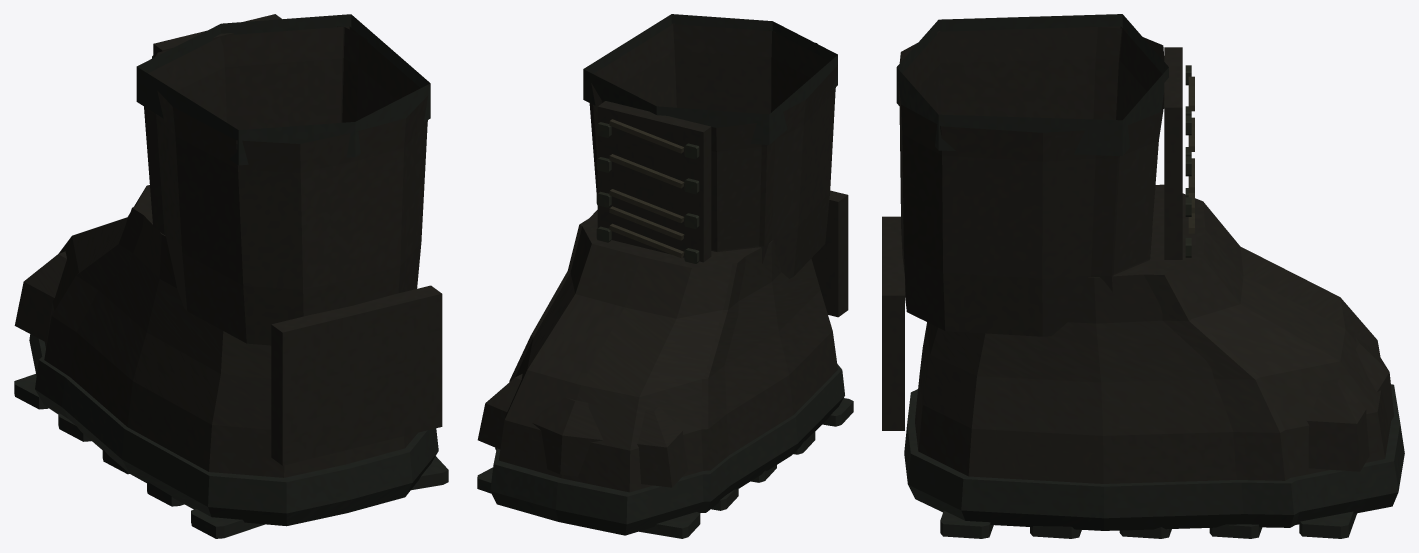
The model's file is boots_leather.glb.
3 renders of one model, left to right at view 1: azimuth 30°, elevation 25°; view 2: azimuth 150°, elevation 25°; view 3: azimuth 270°, elevation 25°, orthographic. The views are drawn at different scales.
Parts seen in each view (by area): view 1: boots_leather_footL_LOD0_RAID_leather, boots_leather_footL_LOD1_RAID_leather, boots_leather_footL_LOD0_RAID_rubber, boots_leather_footL_LOD1_RAID_rubber; view 2: boots_leather_footL_LOD0_RAID_leather, boots_leather_footL_LOD1_RAID_leather, boots_leather_footL_LOD0_RAID_rubber, boots_leather_footL_LOD0_RAID_lace, boots_leather_footL_LOD0_RAID_zip, boots_leather_footL_LOD1_RAID_rubber, boots_leather_footL_LOD1_RAID_lace; view 3: boots_leather_footL_LOD0_RAID_leather, boots_leather_footL_LOD1_RAID_leather, boots_leather_footL_LOD0_RAID_rubber, boots_leather_footL_LOD1_RAID_rubber, boots_leather_footL_LOD0_RAID_zip, boots_leather_footL_LOD0_RAID_lace.
Boxes of the visible parts, bbox=[...] form: boots_leather_footL_LOD0_RAID_leather: bbox=[14, 17, 442, 477]; boots_leather_footL_LOD1_RAID_leather: bbox=[44, 14, 442, 465]; boots_leather_footL_LOD0_RAID_rubber: bbox=[14, 14, 448, 538]; boots_leather_footL_LOD1_RAID_rubber: bbox=[35, 357, 68, 418]; boots_leather_footL_LOD0_RAID_leather: bbox=[477, 23, 848, 492]; boots_leather_footL_LOD1_RAID_leather: bbox=[509, 24, 848, 470]; boots_leather_footL_LOD0_RAID_rubber: bbox=[477, 14, 853, 538]; boots_leather_footL_LOD0_RAID_lace: bbox=[609, 119, 684, 257]; boots_leather_footL_LOD0_RAID_zip: bbox=[596, 122, 699, 263]; boots_leather_footL_LOD1_RAID_rubber: bbox=[495, 367, 839, 513]; boots_leather_footL_LOD1_RAID_lace: bbox=[609, 206, 684, 240]; boots_leather_footL_LOD0_RAID_leather: bbox=[882, 26, 1393, 483]; boots_leather_footL_LOD1_RAID_leather: bbox=[882, 26, 1290, 480]; boots_leather_footL_LOD0_RAID_rubber: bbox=[896, 14, 1404, 538]; boots_leather_footL_LOD1_RAID_rubber: bbox=[910, 420, 1395, 527]; boots_leather_footL_LOD0_RAID_zip: bbox=[1185, 65, 1191, 257]; boots_leather_footL_LOD0_RAID_lace: bbox=[1188, 76, 1194, 233].
Size of the model in its own units: 0.202 by 0.2985 by 0.3435.
4 materials, 4 textured.
